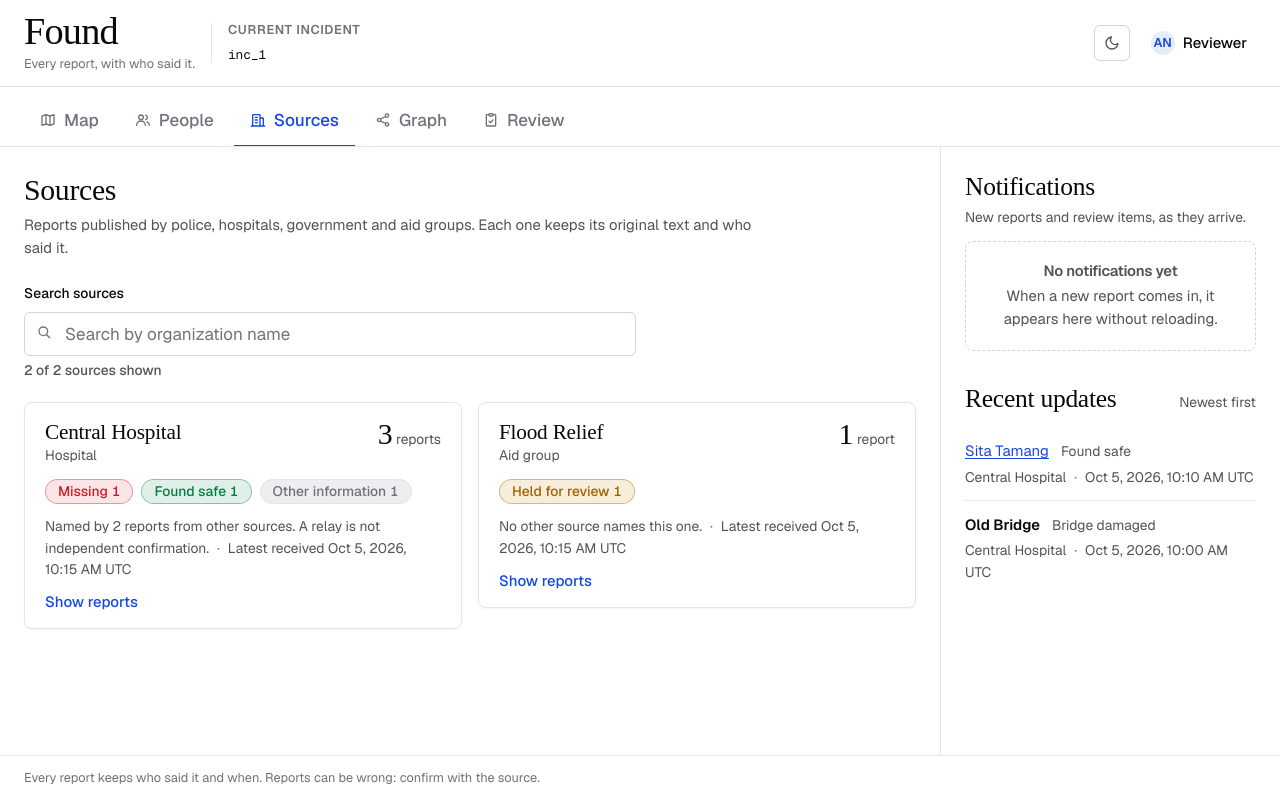
it: sources page › filters by name and explains an empty result
Expected: the heading "Central Hospital" is shown, [45,419,182,445]
Type "relief" into the search field labelled "Search sources 2 of 2 sources shown" at (330, 334), box [24,312,636,356]
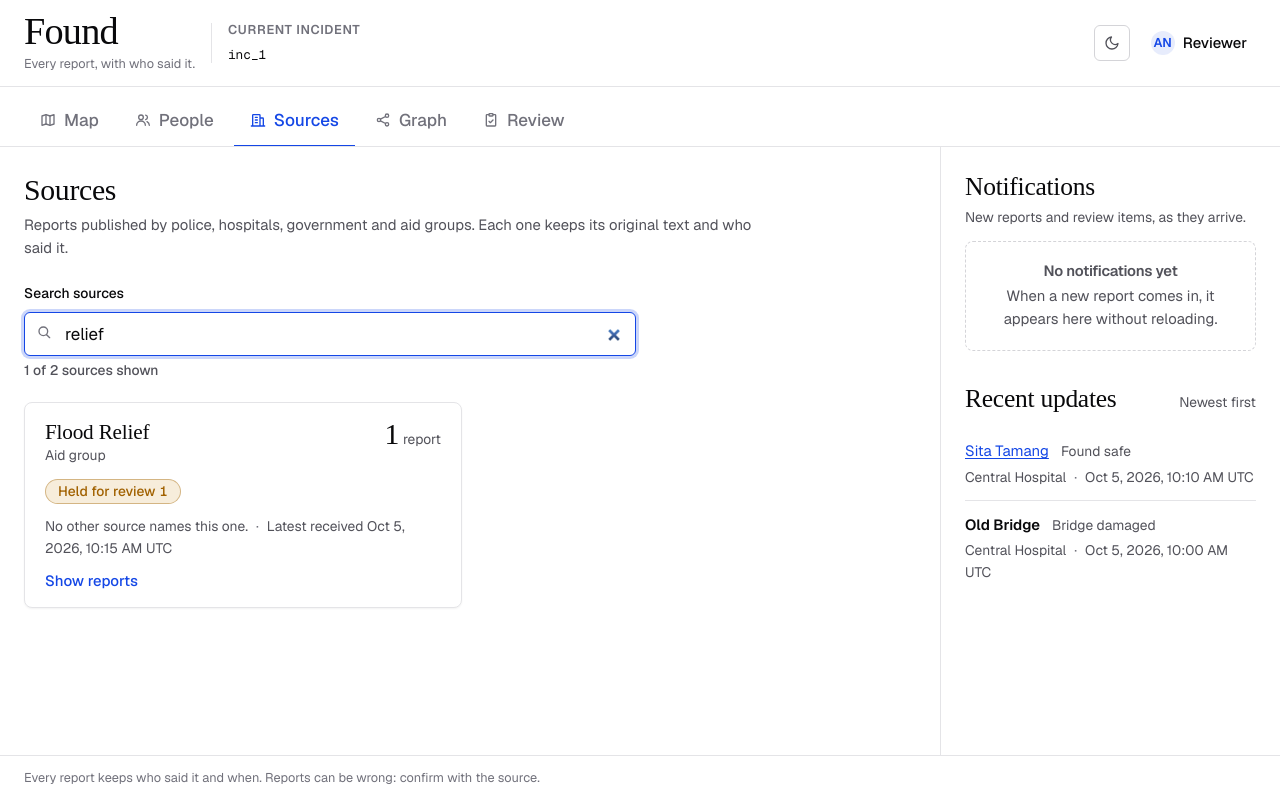
Expected: the heading "Flood Relief" is shown, [45,419,149,445]
Now the text "1 of 2 sources shown" is shown, box [24,361,158,379]
Type "zzz" into the search field labelled "Search sources 1 of 2 sources shown" at (330, 334), box [24,312,636,356]
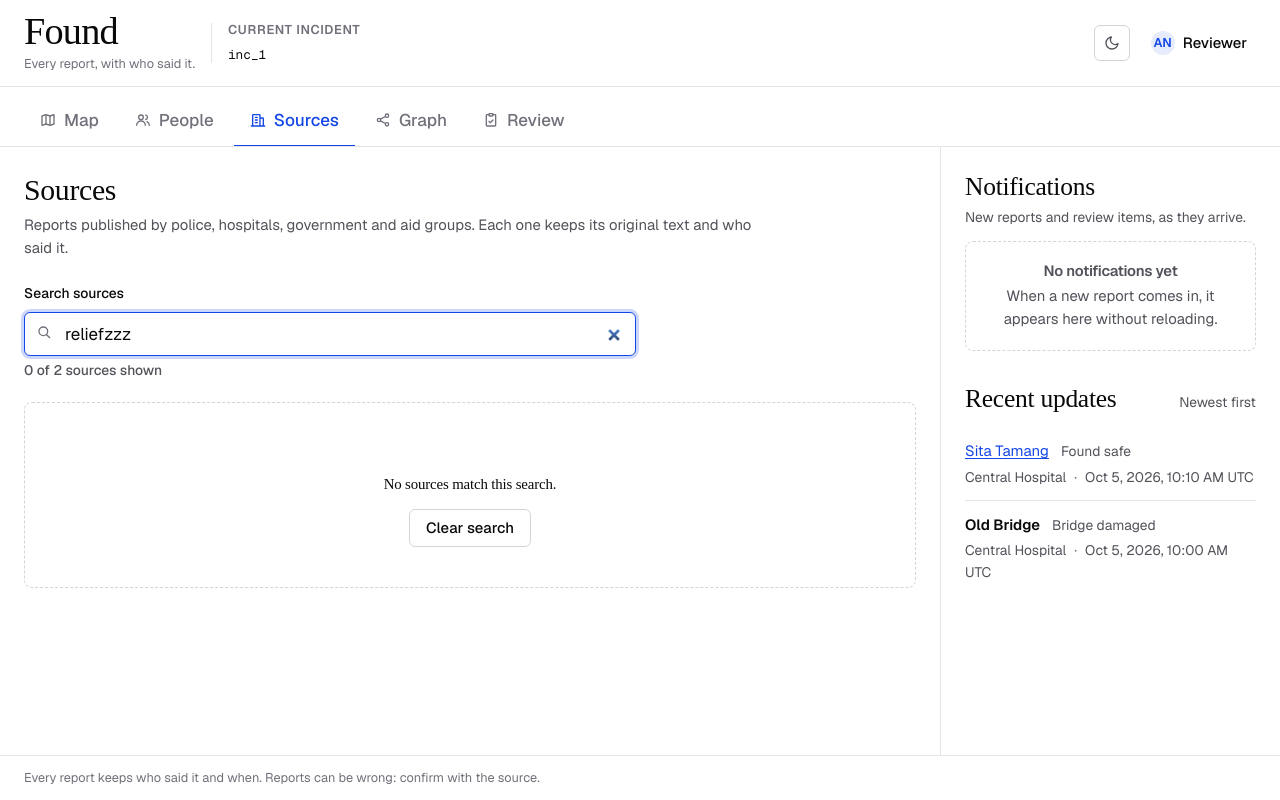
Now the heading "No sources match this search." is shown, box [384,476,556,492]
Click the button "Clear search" at (470, 528), box [409,509,531,547]
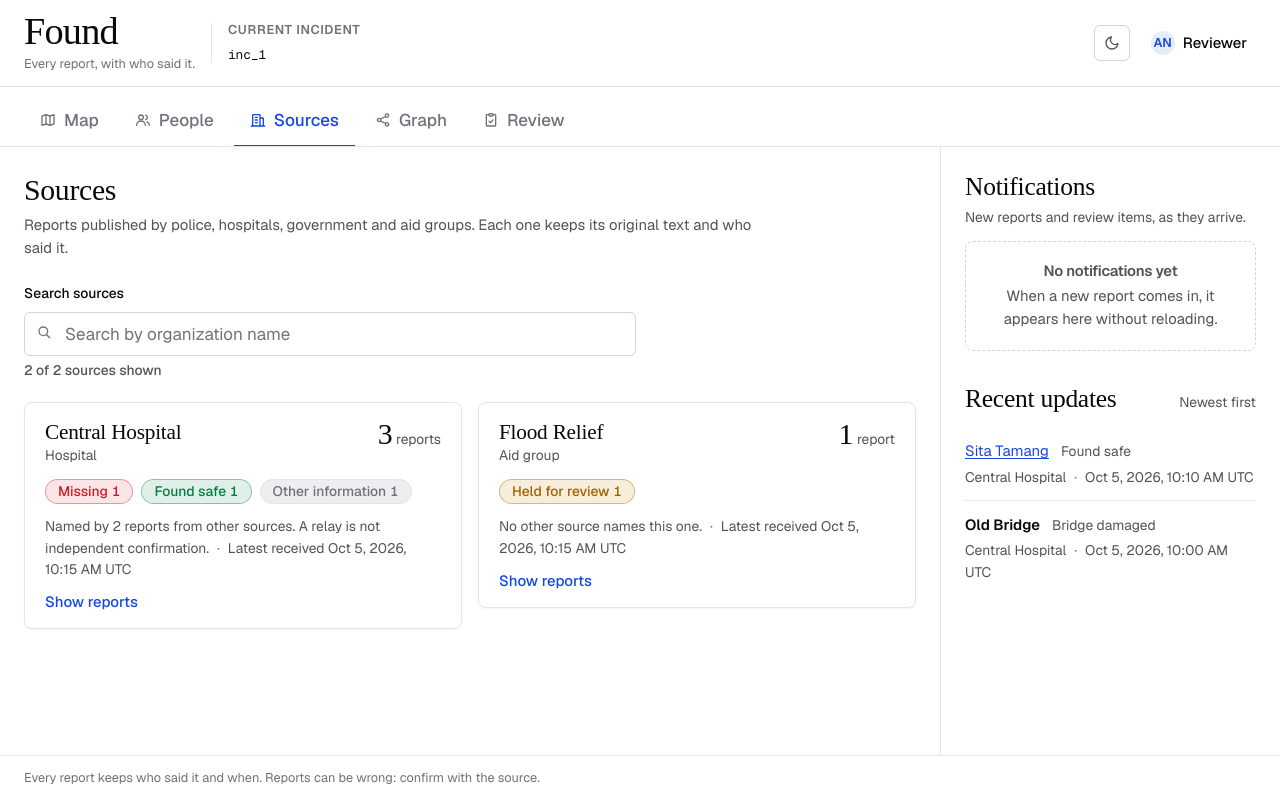
Now the text "2 of 2 sources shown" is shown, box [24,361,162,379]
